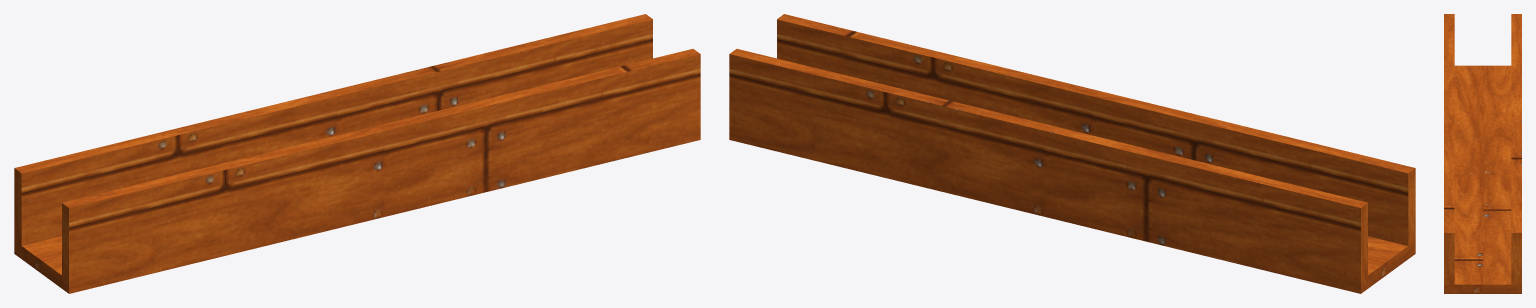
File: Gutter.fbx
3 views of the same model, side by side, from view 1: azimuth 30°, elevation 25°; view 2: azimuth 150°, elevation 25°; view 3: azimuth 270°, elevation 25° (orthographic). The views are drawn at different scales.
Parts seen in each view (by area): view 1: Gutter; view 2: Gutter; view 3: Gutter.
Boxes of the visible parts, x1,y1,x2,y2 form: Gutter: (14, 14, 700, 293); Gutter: (729, 14, 1415, 293); Gutter: (1444, 14, 1521, 293).
Bounding box in the file's own units: 1 × 0.13 × 0.15.
